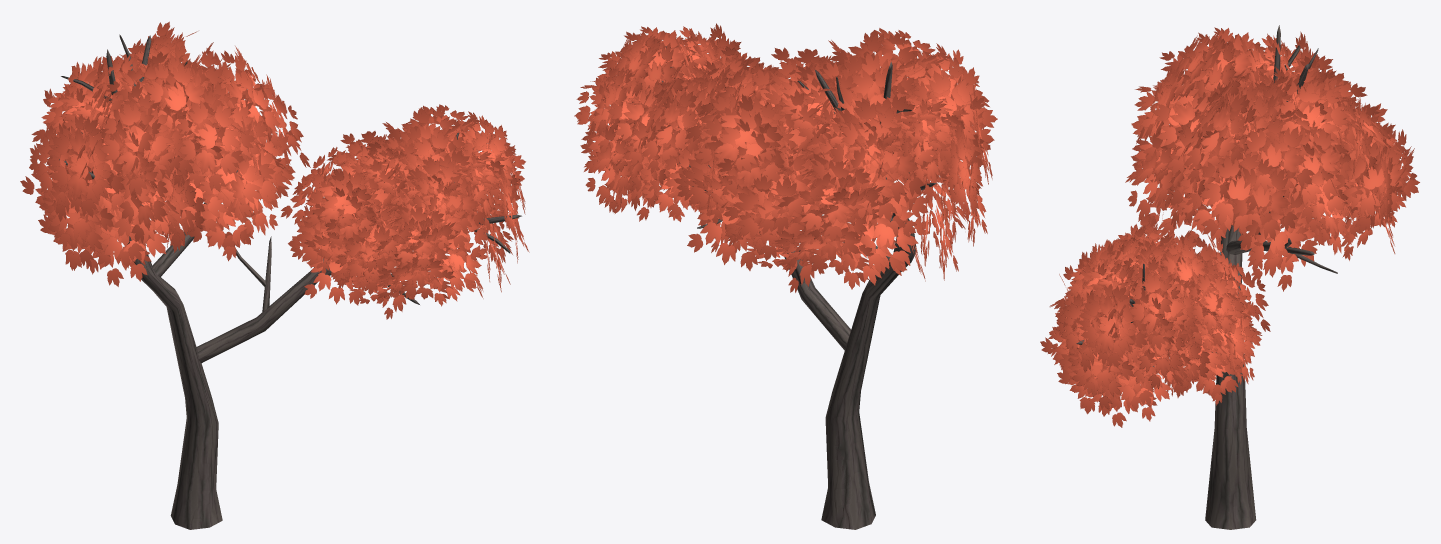
Rendered from MapleTree_1.glb.
3 renders of one model, left to right at view 1: azimuth 30°, elevation 25°; view 2: azimuth 150°, elevation 25°; view 3: azimuth 270°, elevation 25°, orthographic. The views are drawn at different scales.
Size of the model in its own units: 6.23 by 6.64 by 4.9.
Materials: 2 (2 with a texture image).
